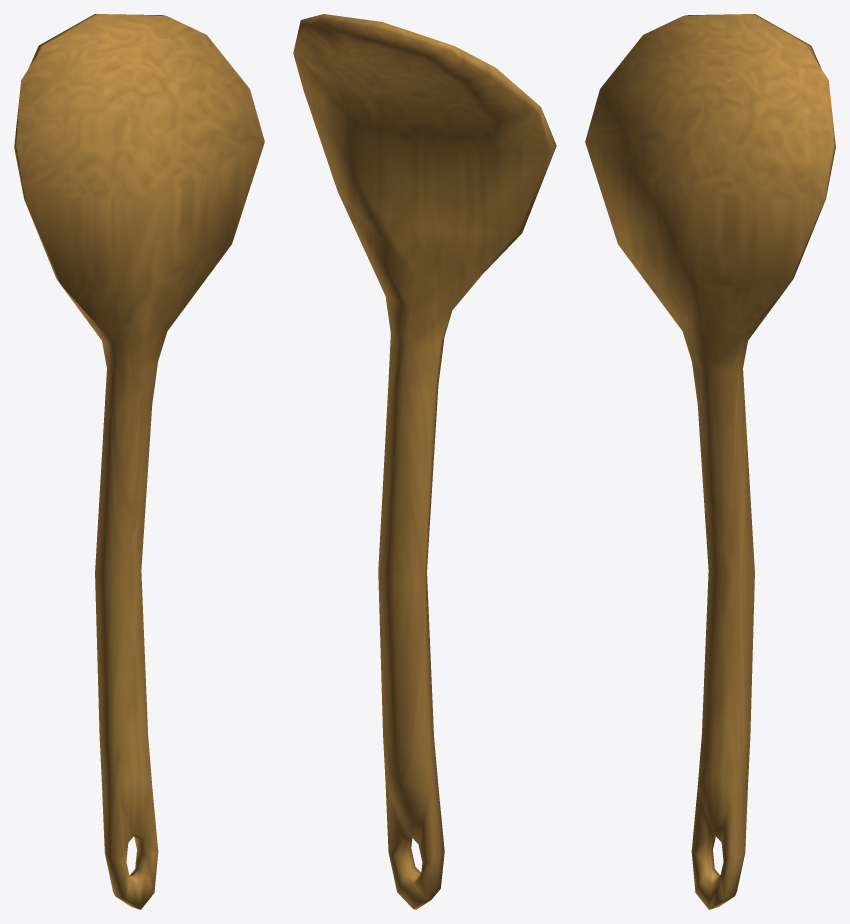
Rendered from ustensils4.glb.
3 views of the same model, side by side, from view 1: azimuth 30°, elevation 25°; view 2: azimuth 150°, elevation 25°; view 3: azimuth 330°, elevation 25° (orthographic). The views are drawn at different scales.
Visible parts, largest first — view 1: ustensils4; view 2: ustensils4; view 3: ustensils4.
Boxes of the visible parts, box(x1,y1,x2,y2) form: ustensils4: box(14, 14, 264, 909); ustensils4: box(293, 14, 556, 909); ustensils4: box(585, 14, 835, 909).
Bounding box in the file's own units: 0.1654 × 0.5739 × 0.0746.
Materials: 1 (1 with a texture image).
